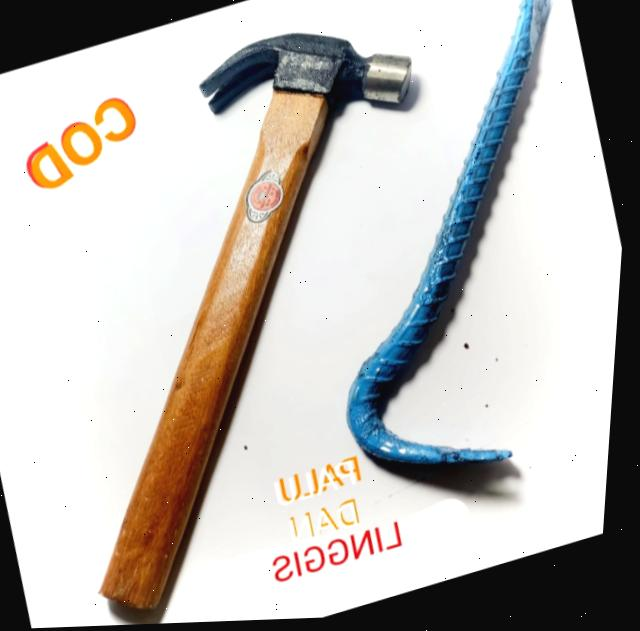crow bar: (341, 0, 556, 480)
